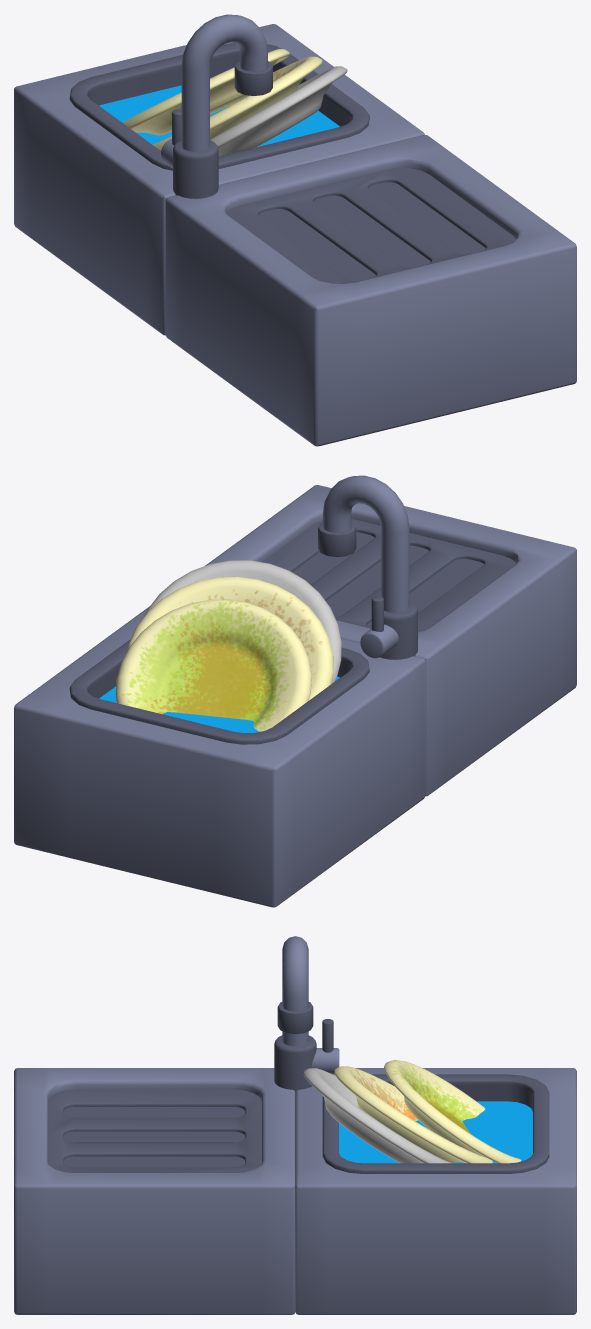
File: SM_Wash_Area.fbx
3 renders of one model, top to bottom at view 1: azimuth 30°, elevation 25°; view 2: azimuth 150°, elevation 25°; view 3: azimuth 270°, elevation 25°, orthographic. The views are drawn at different scales.
Visible parts, largest first — view 1: Wash_Area, Plate.005, Dirty_Plate_1, Plate.004, Plane.003; view 2: Wash_Area, Plate.004, Dirty_Plate_1, Plate.005, Plane.003; view 3: Wash_Area, Plate.004, Dirty_Plate_1, Plane.003, Plate.005.
Boxes of the visible parts, x1,y1,x2,y2 form: Wash_Area: [14, 14, 576, 446]; Plate.005: [210, 66, 347, 156]; Dirty_Plate_1: [152, 56, 322, 150]; Plate.004: [122, 49, 289, 135]; Plane.003: [99, 85, 339, 147]; Wash_Area: [14, 475, 576, 907]; Plate.004: [115, 599, 311, 731]; Dirty_Plate_1: [127, 576, 333, 700]; Plate.005: [145, 560, 341, 683]; Plane.003: [99, 676, 339, 733]; Wash_Area: [14, 936, 576, 1314]; Plate.004: [384, 1060, 521, 1163]; Dirty_Plate_1: [334, 1066, 492, 1163]; Plane.003: [339, 1101, 532, 1163]; Plate.005: [303, 1068, 451, 1163].
Bounding box in the file's own units: 200 × 223 × 400.
